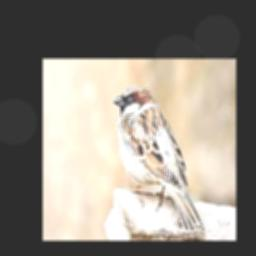Sparrow: (112, 83, 204, 232)
